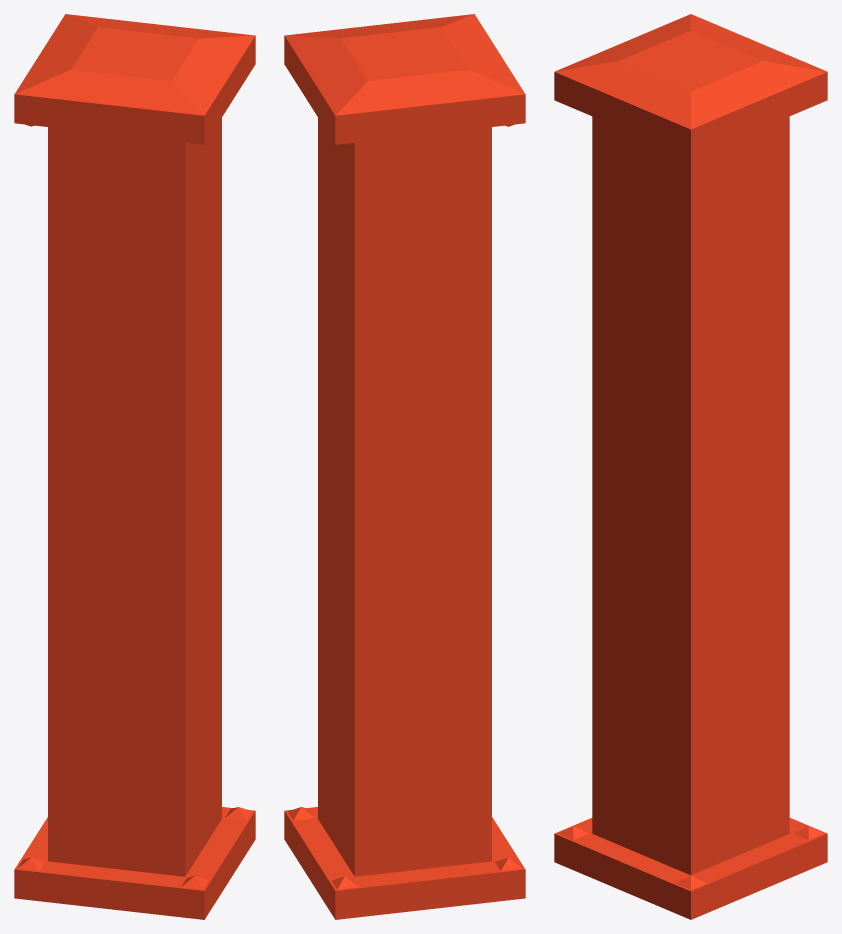
File: SM_Pipe_Straight_A_City.fbx
The picture shows the model from 3 angles, left to right: view 1: azimuth 30°, elevation 25°; view 2: azimuth 150°, elevation 25°; view 3: azimuth 270°, elevation 25°; orthographic projection.
Parts seen in each view (by area): view 1: SM_Pipe_Straight_A_City; view 2: SM_Pipe_Straight_A_City; view 3: SM_Pipe_Straight_A_City.
Part boxes in pixels (x1=…): SM_Pipe_Straight_A_City: x1=14, y1=14, x2=255, y2=919; SM_Pipe_Straight_A_City: x1=284, y1=14, x2=525, y2=919; SM_Pipe_Straight_A_City: x1=554, y1=14, x2=827, y2=919.
Bounding box in the file's own units: 0.0928 × 0.304 × 0.0928.
